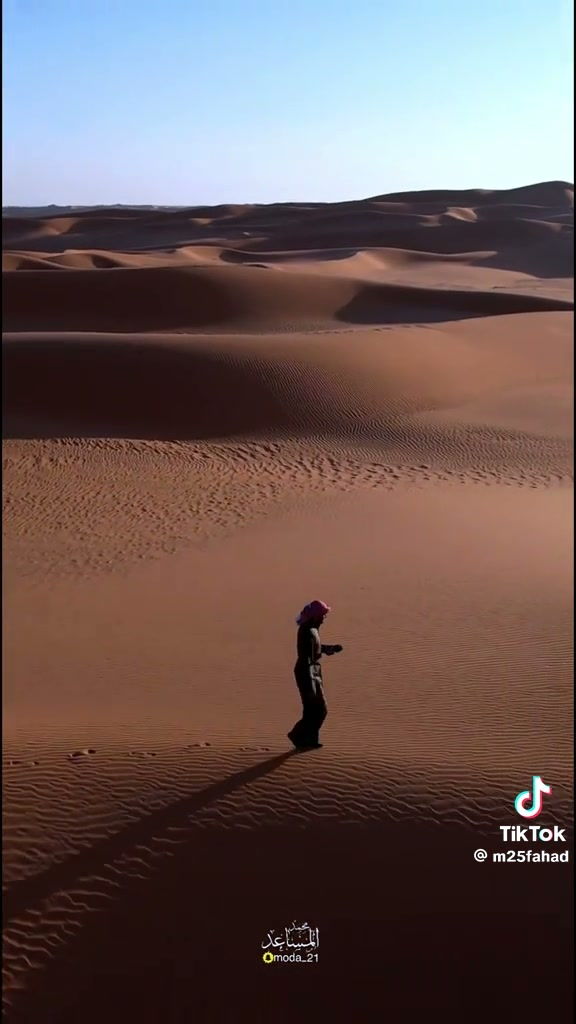human_footprint: (288, 600, 342, 749), (5, 756, 47, 778), (190, 730, 222, 758), (135, 738, 168, 765), (65, 748, 104, 763)
